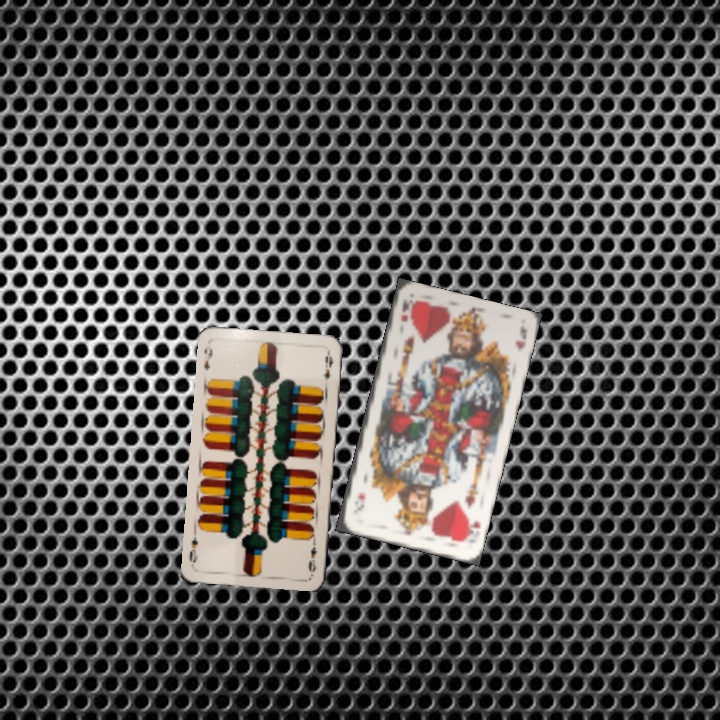E9: (305, 536, 320, 577), (200, 342, 215, 373)
HK: (460, 513, 483, 545), (396, 294, 412, 325)
